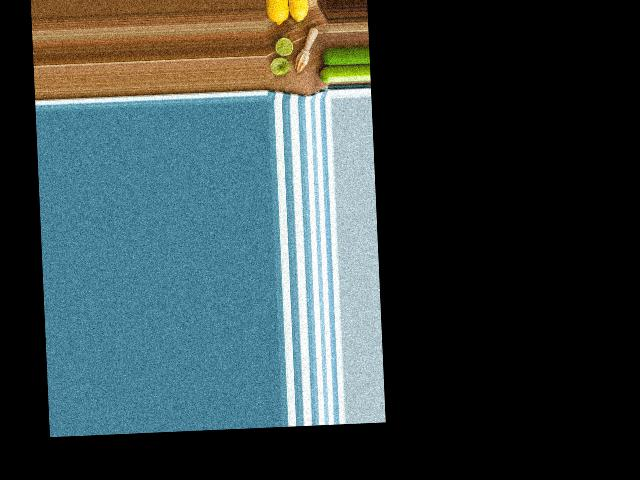lemon: (264, 6, 292, 28)
